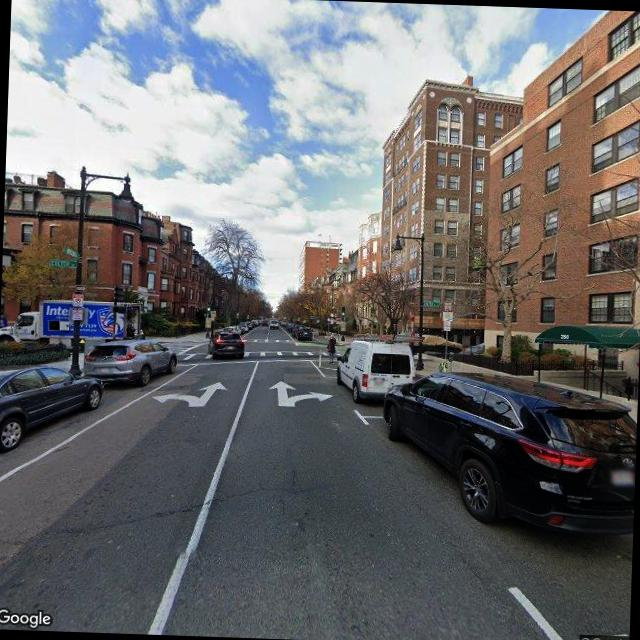crack: (23, 475, 296, 544)
